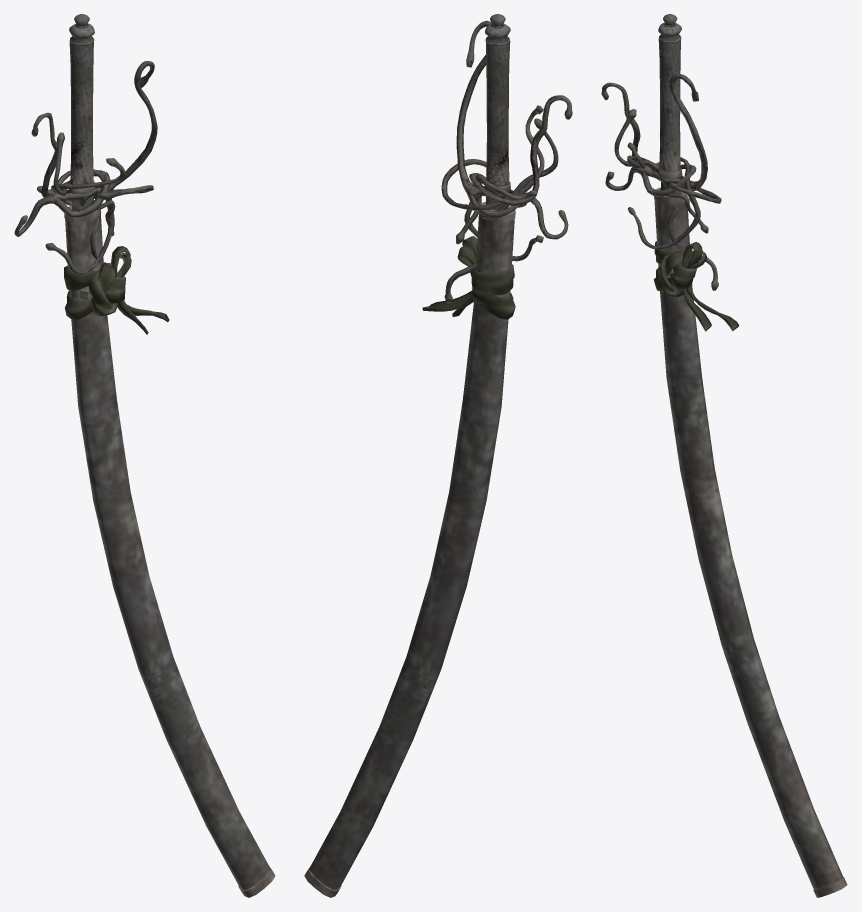
File: weapon-serpentbone-blade.glb
3 renders of one model, left to right at view 1: azimuth 30°, elevation 25°; view 2: azimuth 150°, elevation 25°; view 3: azimuth 330°, elevation 25°, orthographic. The views are drawn at different scales.
Parts seen in each view (by area): view 1: wp_a_0557; view 2: wp_a_0557; view 3: wp_a_0557.
Part boxes in pixels (x1=…): wp_a_0557: x1=14, y1=14, x2=275, y2=897; wp_a_0557: x1=304, y1=14, x2=572, y2=897; wp_a_0557: x1=601, y1=14, x2=847, y2=897.
Bounding box in the file's own units: 0.426 × 1.45 × 0.1419.
Materials: 3 (3 with a texture image).
